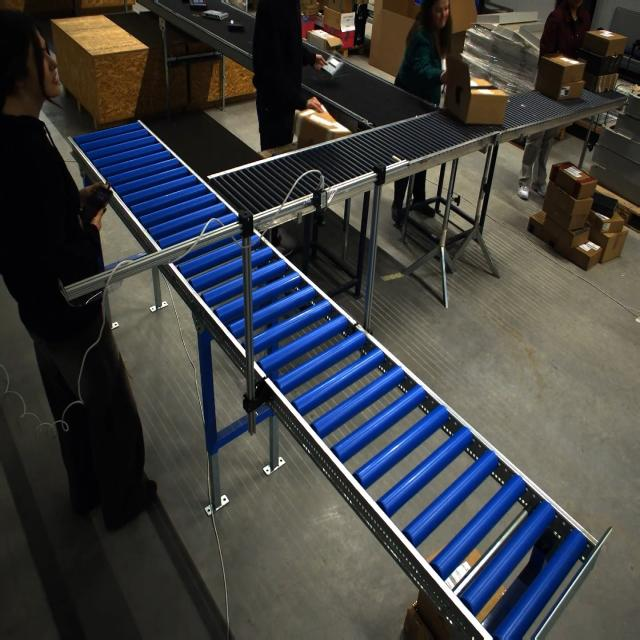box: (442, 61, 509, 125), (438, 2, 486, 59)
product: (202, 9, 229, 20), (189, 0, 208, 10), (227, 20, 244, 31)
